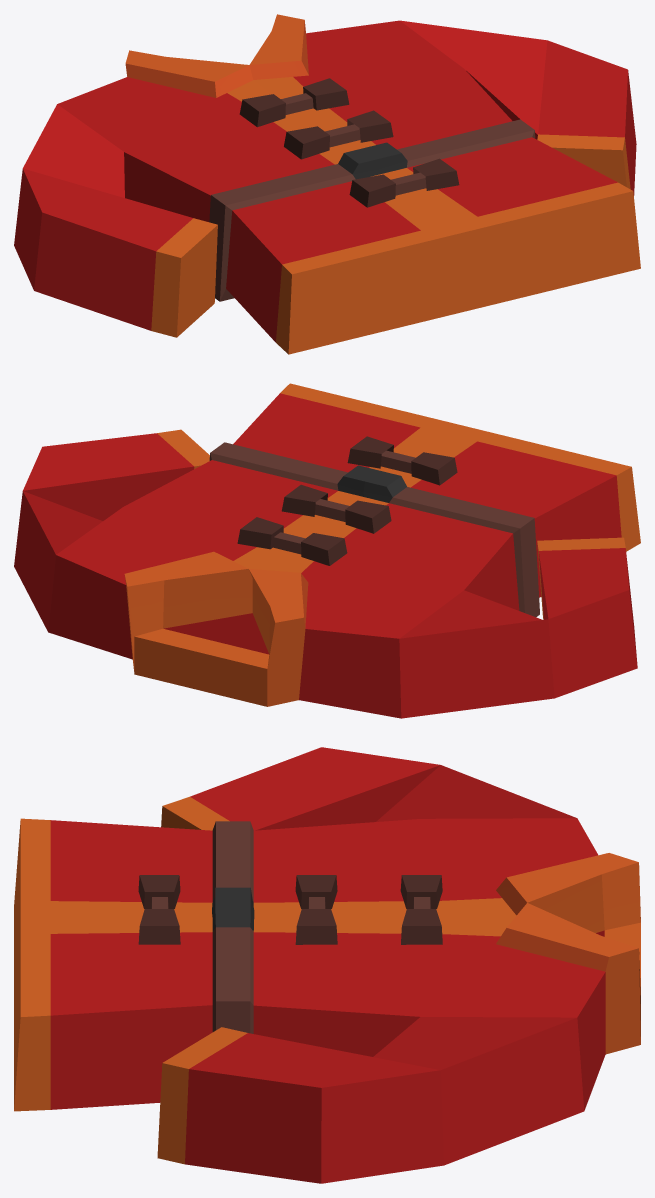
The model's file is clothes_resource.fbx.
The picture shows the model from 3 angles, top to bottom: view 1: azimuth 30°, elevation 25°; view 2: azimuth 150°, elevation 25°; view 3: azimuth 270°, elevation 25°; orthographic projection. The views are drawn at different scales.
Visible parts, largest first — view 1: clothes_resource; view 2: clothes_resource; view 3: clothes_resource.
Boxes of the visible parts, x1,y1,x2,y2 form: clothes_resource: (14,14,640,354); clothes_resource: (14,383,640,718); clothes_resource: (14,747,640,1183).
Bounding box in the file's own units: 51.86 × 8.72 × 39.21.
